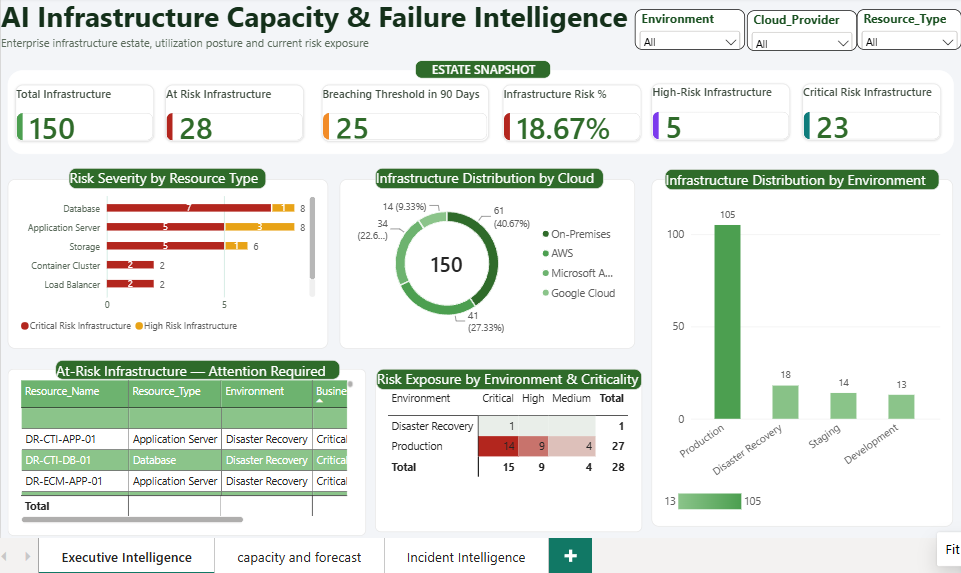

This screenshot's page, from the dashboard's own definition file:
{"tool":"powerbi","page":{"name":"Executive Intelligence","canvas":[1280,720],"ordinal":0},"visuals":[{"type":"tableEx","fields":{"Values":["infrastructure_master.Resource_Name","infrastructure_master.Resource_Type","infrastructure_master.Environment","infrastructure_master.Business_Criticality","vw_infrastructure_intelligence.Current Risk Level"]},"box":[8.2,496,477.9,222.5],"z":0},{"type":"pivotTable","fields":{"Columns":["infrastructure_master.Business_Criticality"],"Rows":["infrastructure_master.Environment"],"Values":["vw_infrastructure_intelligence.At Risk Infrastructure"]},"box":[497.7,505.9,356,207.6],"z":1000},{"type":"shape","box":[8.2,97.2,1260.7,112.1],"z":2000},{"type":"textbox","title":"AI Infrastructure Capacity & Failure Intelligence","box":[0,0,843.3,58.3],"z":3000},{"type":"cardVisual","title":"Total Infrastructure","fields":{"Data":["vw_infrastructure_intelligence.Total Infrastructure"]},"box":[19.8,117,185,76],"z":4000},{"type":"slicer","fields":{"Values":["infrastructure_master.Department"]},"box":[1324.7,15.9,227.4,58.2],"z":5000},{"type":"slicer","fields":{"Values":["infrastructure_master.Business_Criticality"]},"box":[1594.4,15.9,227.4,58.2],"z":6000},{"type":"textbox","title":"Enterprise infrastructure estate, utilization posture and current risk exposure","box":[0,50,515,25],"z":7000},{"type":"textbox","title":"FY 2025–26","box":[1015,10,151.7,35],"z":8000},{"type":"shape","title":"ESTATE SNAPSHOT","box":[552.1,84,181.3,24.7],"z":9000},{"type":"cardVisual","title":"High-Risk Infrastructure","fields":{"Data":["vw_infrastructure_intelligence.High Risk Infrastructure"]},"box":[866.8,115.4,185,76],"z":10000},{"type":"cardVisual","title":"Infrastructure Risk %","fields":{"Data":["vw_infrastructure_intelligence.Infrastructure Risk %"]},"box":[669.1,117,185,76],"z":11000},{"type":"cardVisual","title":"Breaching Threshold in 90 Days","fields":{"Data":["vw_infrastructure_intelligence.Breaching Threshold in 90 Days"]},"box":[426.8,117,222.5,75.8],"z":12000},{"type":"cardVisual","title":"At Risk Infrastructure","fields":{"Data":["vw_infrastructure_intelligence.At Risk Infrastructure"]},"box":[219.2,117,185,76],"z":13000},{"type":"barChart","fields":{"Category":["infrastructure_master.Resource_Type"],"Y":["vw_infrastructure_intelligence.Critical Risk Infrastructure","vw_infrastructure_intelligence.High Risk Infrastructure"]},"box":[8.2,242.2,426.8,225.8],"z":14000},{"type":"donutChart","fields":{"Category":["infrastructure_master.Cloud_Provider"],"Y":["CountNonNull(infrastructure_master.Infrastructure_ID)"]},"box":[451.5,242.2,393.9,225.8],"z":15000},{"type":"clusteredColumnChart","fields":{"Category":["infrastructure_master.Environment"],"Y":["CountNonNull(infrastructure_master.Infrastructure_ID)"]},"box":[866.8,242.2,402.1,463.1],"z":16000},{"type":"shape","title":"Risk Severity by Resource Type","box":[90.6,227.4,263.3,28.3],"z":17000},{"type":"shape","title":"Infrastructure Distribution by Cloud Provider ","box":[497.7,227.4,304.9,28],"z":18000},{"type":"shape","title":"Risk Exposure by Environment & Criticality","box":[499.3,496,354.3,28],"z":19000},{"type":"shape","title":"Infrastructure Distribution by Environment","box":[884.9,229.1,365.8,28],"z":20000},{"type":"cardVisual","title":"Critical Risk Infrastructure","fields":{"Data":["vw_infrastructure_intelligence.Critical Risk Infrastructure"]},"box":[1067.9,115.4,185,76],"z":21000},{"type":"shape","title":"At-Risk Infrastructure — Attention Required","box":[72.5,482.8,379,26.4],"z":22000}]}

Visuals, with their boxes on the page's 1280x720 design canvas (x1, y1, x2, y2). These are canvas units, not pixel positions in the 961x573 screenshot, which may show the page scaled, cropped or inside an application window:
tableEx - infrastructure_master.Resource_Name x infrastructure_master.Resource_Type: [8,496,486,718]
pivotTable - infrastructure_master.Business_Criticality x infrastructure_master.Environment: [498,506,854,714]
shape: [8,97,1269,209]
"AI Infrastructure Capacity & Failure Intelligence" textbox: [0,0,843,58]
"Total Infrastructure" cardVisual: [20,117,205,193]
slicer - infrastructure_master.Department: [1325,16,1552,74]
slicer - infrastructure_master.Business_Criticality: [1594,16,1822,74]
"Enterprise infrastructure estate, utilization posture and current risk exposure" textbox: [0,50,515,75]
"FY 2025–26" textbox: [1015,10,1167,45]
"ESTATE SNAPSHOT" shape: [552,84,733,109]
"High-Risk Infrastructure" cardVisual: [867,115,1052,191]
"Infrastructure Risk %" cardVisual: [669,117,854,193]
"Breaching Threshold in 90 Days" cardVisual: [427,117,649,193]
"At Risk Infrastructure" cardVisual: [219,117,404,193]
barChart - infrastructure_master.Resource_Type x vw_infrastructure_intelligence.Critical Risk Infrastructure: [8,242,435,468]
donutChart - infrastructure_master.Cloud_Provider x CountNonNull(infrastructure_master.Infrastructure_ID): [452,242,845,468]
clusteredColumnChart - infrastructure_master.Environment x CountNonNull(infrastructure_master.Infrastructure_ID): [867,242,1269,705]
"Risk Severity by Resource Type" shape: [91,227,354,256]
"Infrastructure Distribution by Cloud Provider " shape: [498,227,803,255]
"Risk Exposure by Environment & Criticality" shape: [499,496,854,524]
"Infrastructure Distribution by Environment" shape: [885,229,1251,257]
"Critical Risk Infrastructure" cardVisual: [1068,115,1253,191]
"At-Risk Infrastructure — Attention Required" shape: [72,483,452,509]
